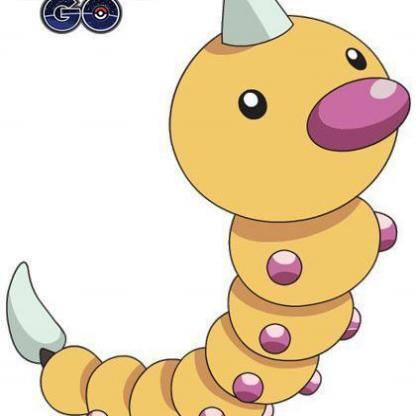Weedle: (4, 1, 395, 416)
